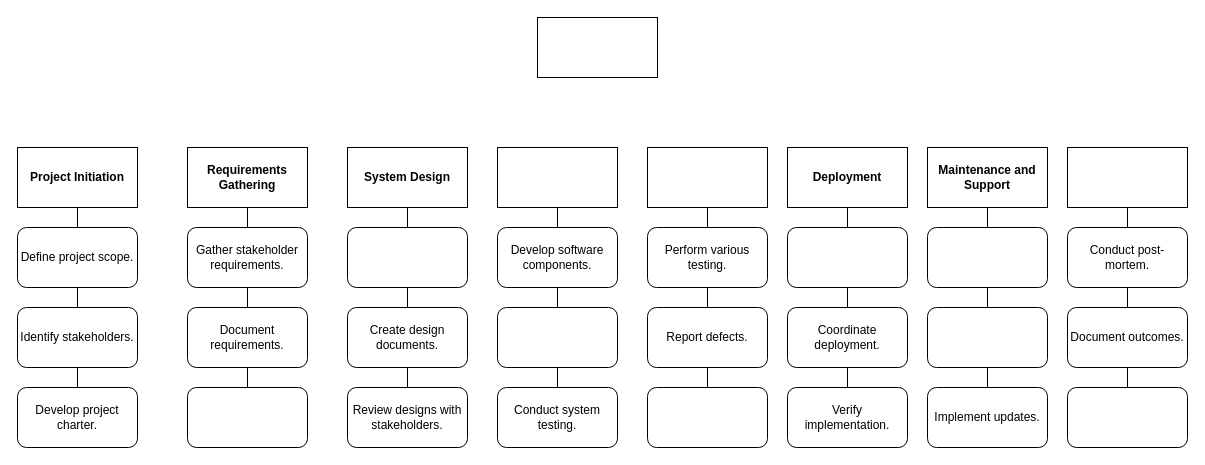
The diagram is 1205 pixels wide and 465 high, and some of its shapes have lost their labels. Each missing label, with the box of its shape:
Archive project.: (1066, 386, 1188, 448)
Develop system architecture.: (346, 226, 468, 288)
Implementation: (496, 146, 618, 208)
Monitor performance.: (926, 306, 1048, 368)
Prepare for deployment.: (786, 226, 908, 288)
Project Closure: (1066, 146, 1188, 208)
Provide ongoing support.: (926, 226, 1048, 288)
Retest after fixes.: (646, 386, 768, 448)
Testing: (646, 146, 768, 208)
Validate requirements.: (186, 386, 308, 448)
Write code and unit test.: (496, 306, 618, 368)
